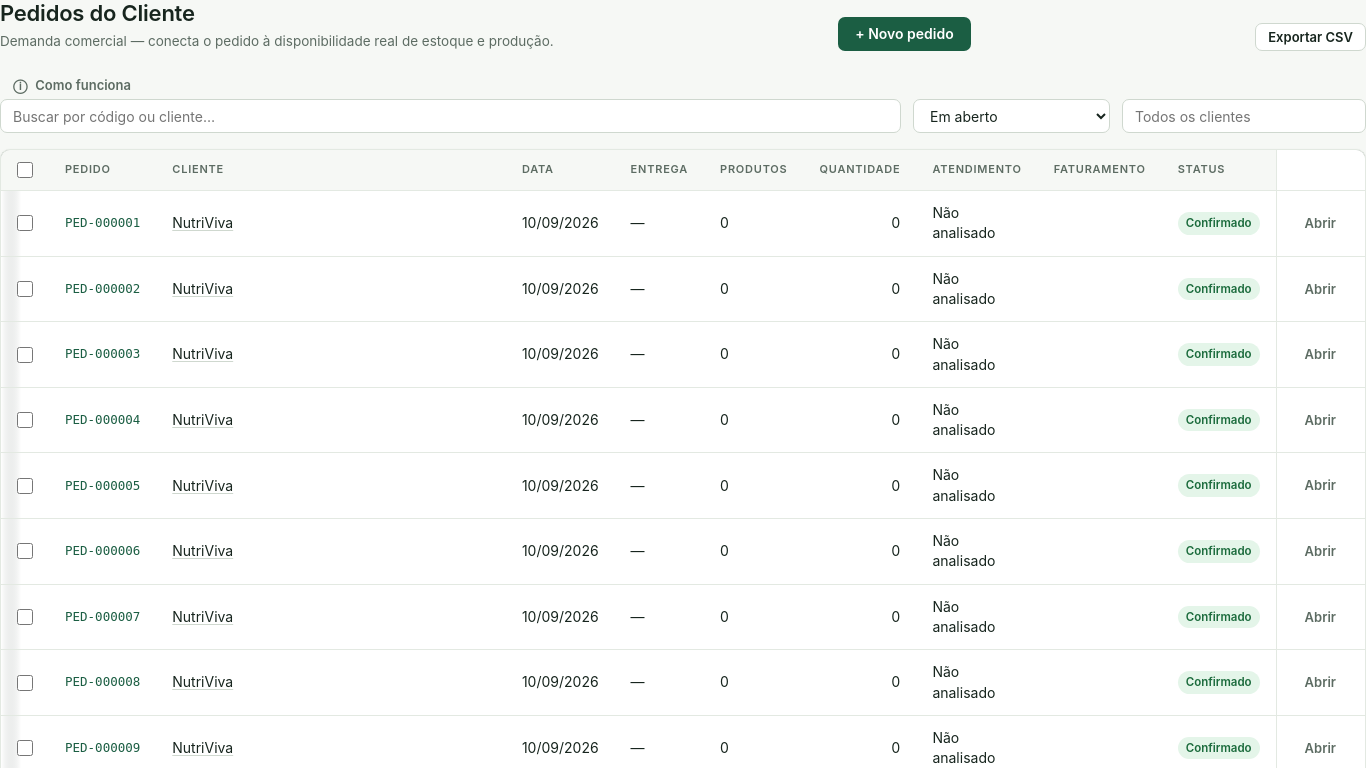
Test: página × todos os filtrados › o CTA fala 300 e só existe com a página inteira marcada
Click the checkbox named "Selecionar pedido PED-000001" at (25, 223), box [17,215,33,231]
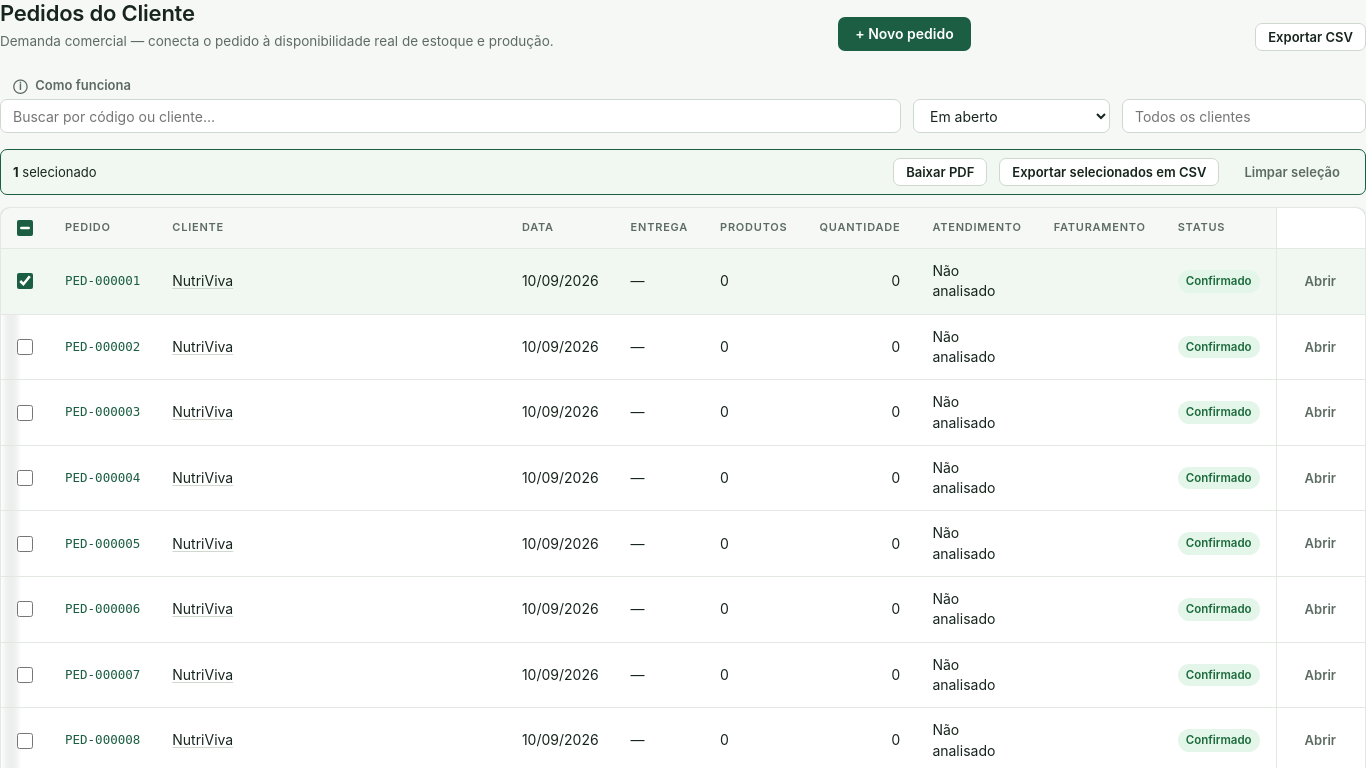
Expected: the button "Selecionar todos os 300 resultados filtrados" is not shown
Click the checkbox named "Selecionar todos os registros desta página" at (25, 228), box [17,220,33,236]
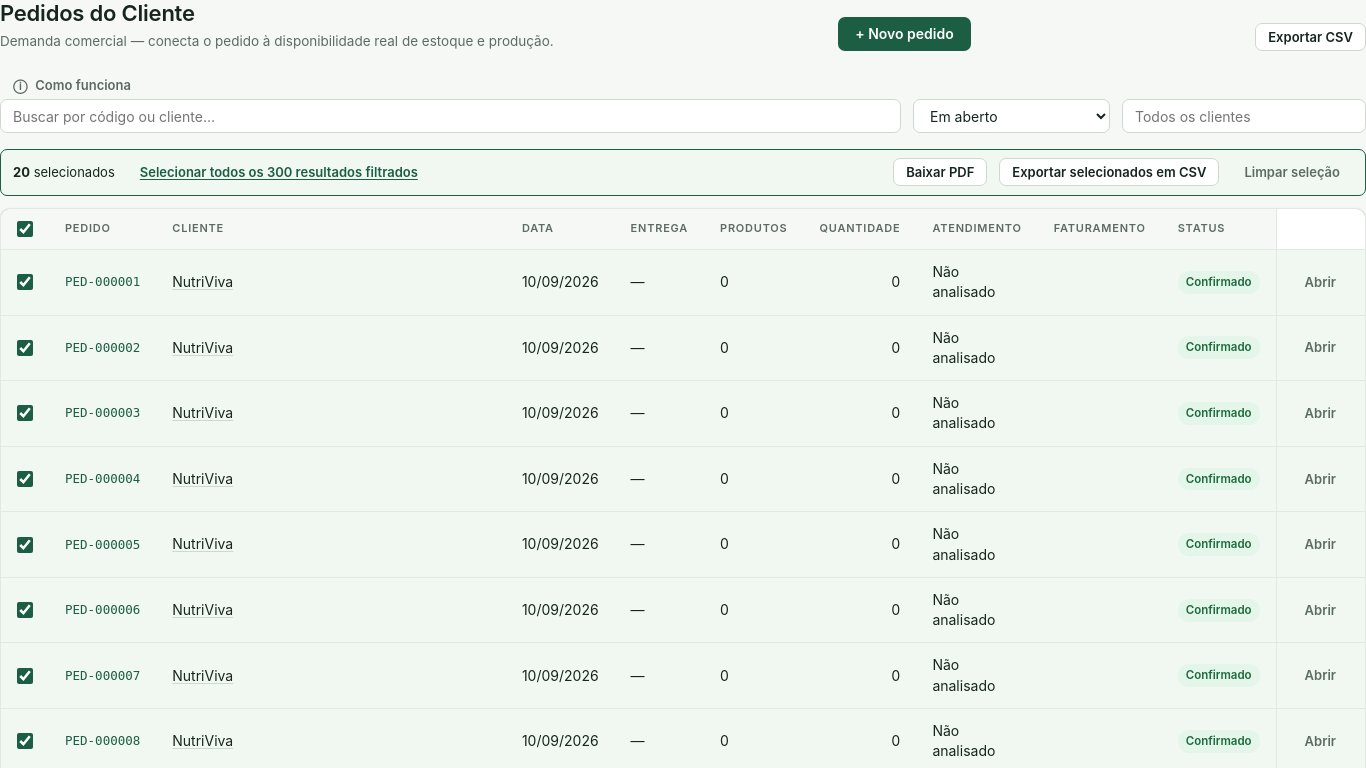
Result: the button "Selecionar todos os 300 resultados filtrados" is shown at [127,158,431,187]
Click the checkbox named "Selecionar pedido PED-000004" at (25, 479), box [17,471,33,487]
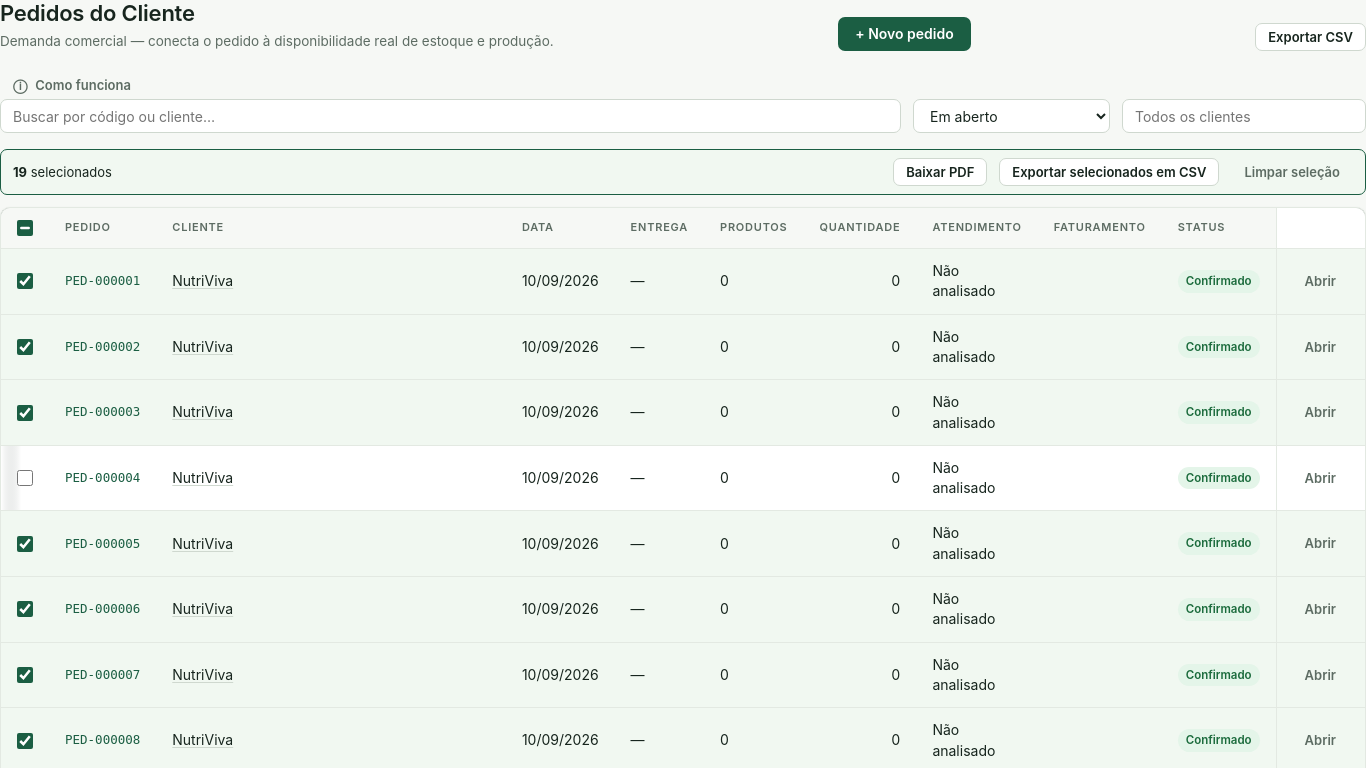
Result: the button "Selecionar todos os 300 resultados filtrados" is gone
